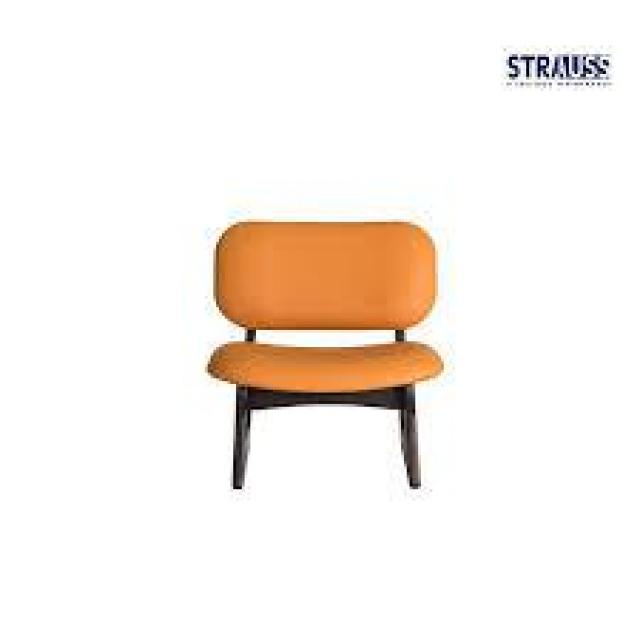chair: (164, 178, 496, 516)
